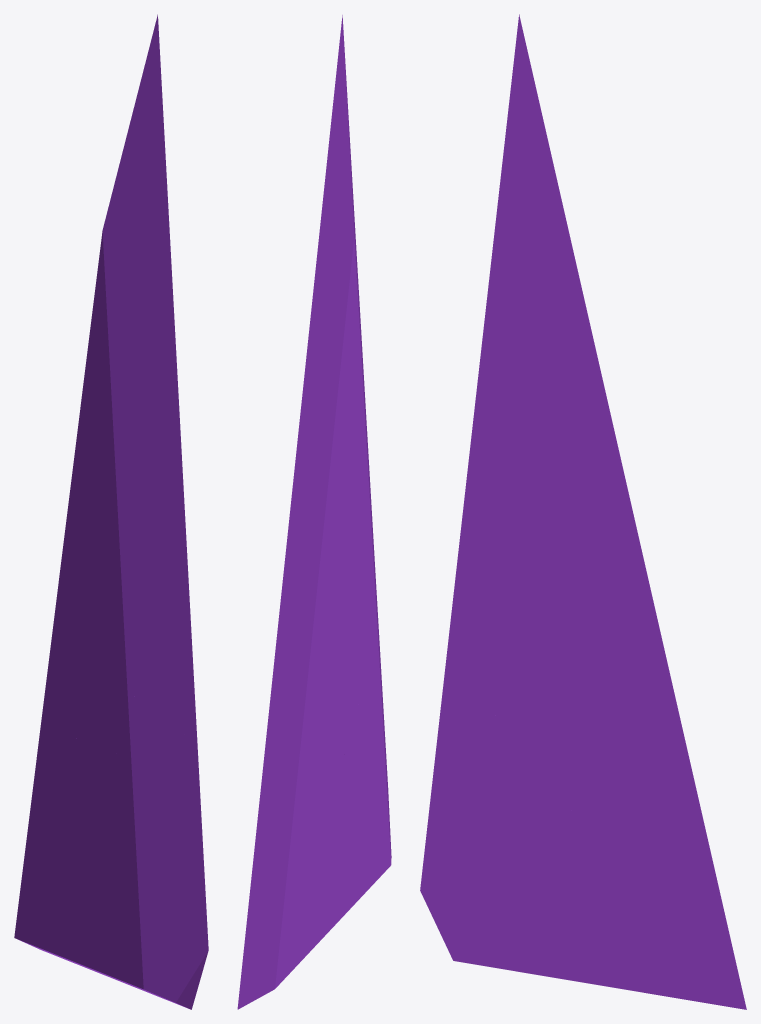
File: Glass_84_5_8_chunks.fbx
3 views of the same model, side by side, from view 1: azimuth 30°, elevation 25°; view 2: azimuth 150°, elevation 25°; view 3: azimuth 270°, elevation 25° (orthographic). The views are drawn at different scales.
Visible parts, largest first — view 1: Glass_84_5_8_8, Glass_84_5_8_1, Glass_84_5_8_7, Glass_84_5_8_0, Glass_84_5_8_3, Glass_84_5_8_4, Glass_84_5_8_5; view 2: Glass_84_5_8_0, Glass_84_5_8_3, Glass_84_5_8_8, Glass_84_5_8_1, Glass_84_5_8_5, Glass_84_5_8_4, Glass_84_5_8_7, Glass_84_5_8_6; view 3: Glass_84_5_8_0, Glass_84_5_8_1, Glass_84_5_8_8, Glass_84_5_8_7, Glass_84_5_8_4, Glass_84_5_8_5, Glass_84_5_8_6, Glass_84_5_8_2, Glass_84_5_8_9.
Boxes of the visible parts, bbox=[...] form: Glass_84_5_8_8: bbox=[100, 14, 185, 525]; Glass_84_5_8_1: bbox=[91, 731, 208, 1009]; Glass_84_5_8_7: bbox=[102, 494, 196, 736]; Glass_84_5_8_0: bbox=[14, 688, 130, 985]; Glass_84_5_8_3: bbox=[63, 250, 102, 647]; Glass_84_5_8_4: bbox=[45, 626, 175, 763]; Glass_84_5_8_5: bbox=[52, 545, 67, 633]; Glass_84_5_8_0: bbox=[237, 713, 348, 1009]; Glass_84_5_8_3: bbox=[311, 256, 354, 637]; Glass_84_5_8_8: bbox=[308, 15, 367, 462]; Glass_84_5_8_1: bbox=[344, 612, 391, 909]; Glass_84_5_8_5: bbox=[272, 405, 323, 683]; Glass_84_5_8_4: bbox=[269, 611, 379, 730]; Glass_84_5_8_7: bbox=[354, 443, 378, 624]; Glass_84_5_8_6: bbox=[301, 341, 361, 483]; Glass_84_5_8_0: bbox=[564, 713, 746, 1009]; Glass_84_5_8_1: bbox=[420, 686, 573, 979]; Glass_84_5_8_8: bbox=[465, 14, 593, 492]; Glass_84_5_8_7: bbox=[443, 488, 599, 697]; Glass_84_5_8_4: bbox=[465, 634, 678, 746]; Glass_84_5_8_5: bbox=[594, 406, 672, 683]; Glass_84_5_8_6: bbox=[565, 341, 608, 537]; Glass_84_5_8_2: bbox=[509, 723, 606, 812]; Glass_84_5_8_9: bbox=[492, 418, 567, 504].
Bounding box in the file's own units: 27.2 × 775 × 230.
